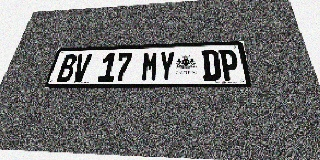1: (98, 53, 118, 82)
7: (113, 53, 133, 81)
B: (56, 54, 78, 82)
D: (201, 50, 221, 81)
M: (141, 52, 159, 81)
P: (219, 49, 241, 80)
V: (71, 54, 92, 82)
Y: (158, 51, 175, 81)
